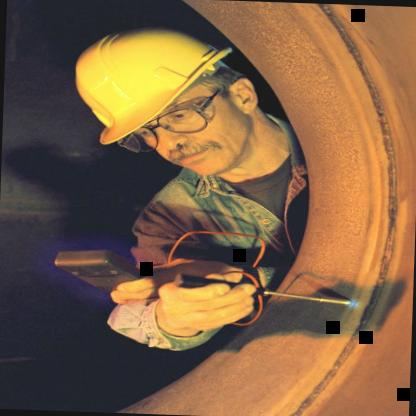helmet: (46, 7, 308, 212)
